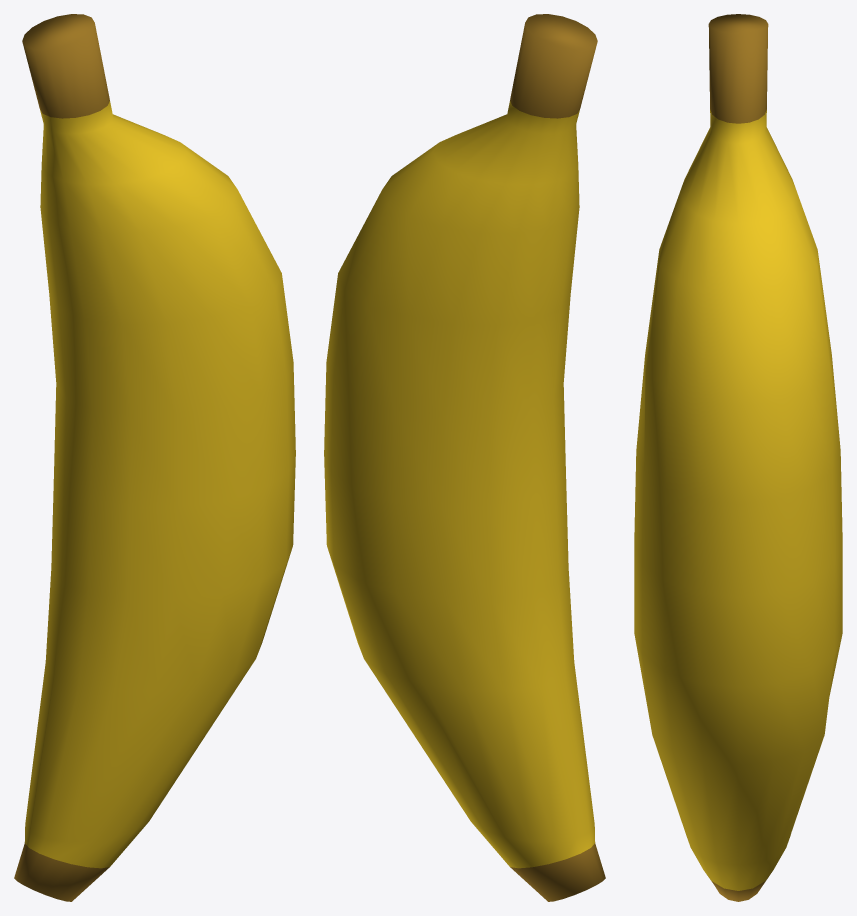
Rendered from banana.fbx.
3 renders of one model, left to right at view 1: azimuth 30°, elevation 25°; view 2: azimuth 150°, elevation 25°; view 3: azimuth 270°, elevation 25°, orthographic.
Visible parts, largest first — view 1: Banana; view 2: Banana; view 3: Banana.
Boxes of the visible parts, <box> form: Banana: <box>14,14,295,901</box>; Banana: <box>324,14,605,901</box>; Banana: <box>634,14,842,901</box>.
Bounding box in the file's own units: 16.69 × 11.22 × 52.18.
